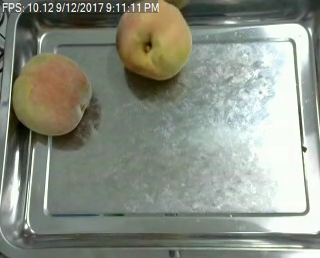Peach: (10, 51, 92, 136), (115, 0, 192, 78)
